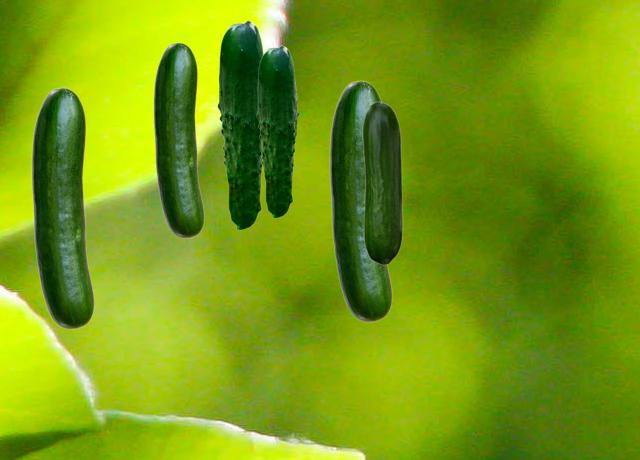cucumber: (329, 80, 391, 321), (31, 87, 93, 328), (153, 42, 203, 237), (217, 20, 263, 229), (256, 45, 298, 217), (362, 101, 402, 264)
